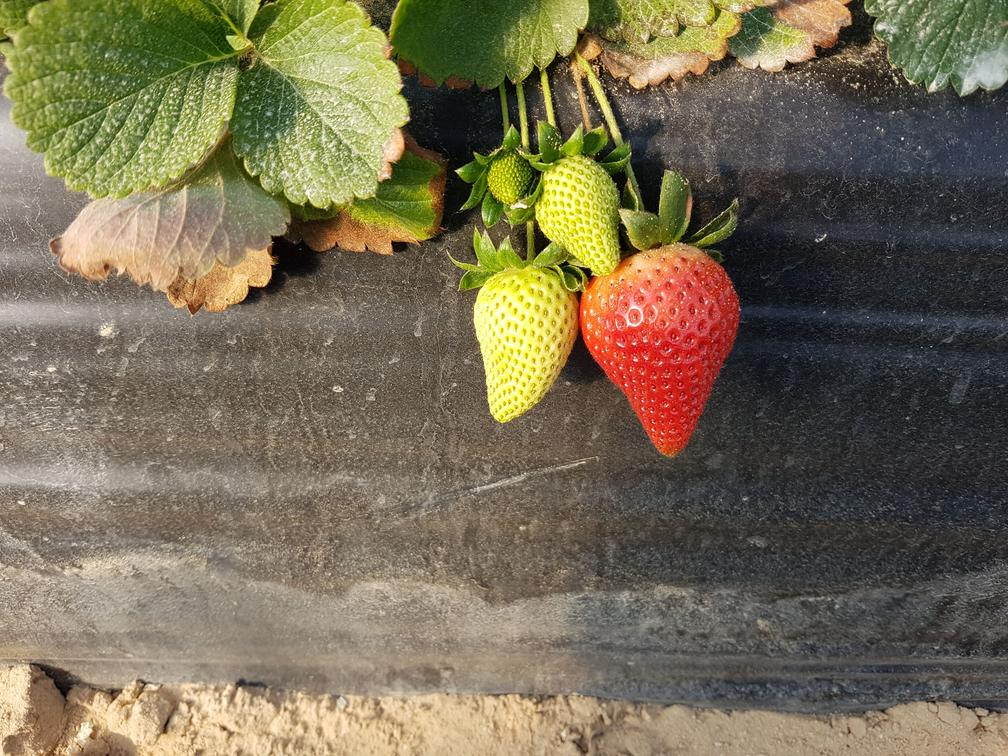Ripe: (579, 253, 753, 463)
Unripe: (468, 269, 582, 425), (530, 148, 626, 272), (486, 155, 537, 207)
